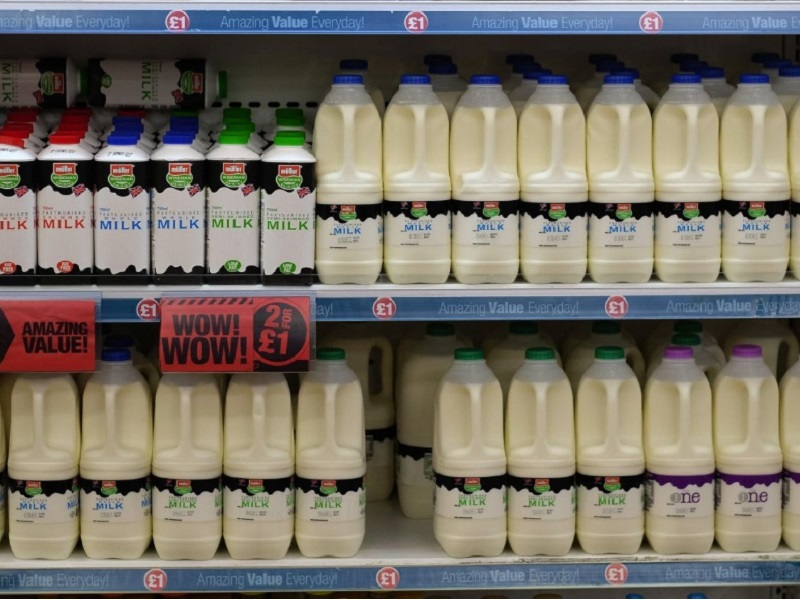milk: (512, 72, 606, 298), (641, 74, 735, 290), (291, 348, 381, 571), (633, 349, 727, 561), (428, 351, 520, 566), (707, 346, 798, 561), (375, 71, 462, 292), (581, 72, 667, 293), (309, 72, 391, 297), (714, 67, 795, 293), (453, 72, 535, 295), (83, 351, 162, 571), (574, 349, 654, 564), (222, 368, 307, 564), (503, 349, 579, 564), (8, 373, 91, 568), (157, 375, 229, 563)
